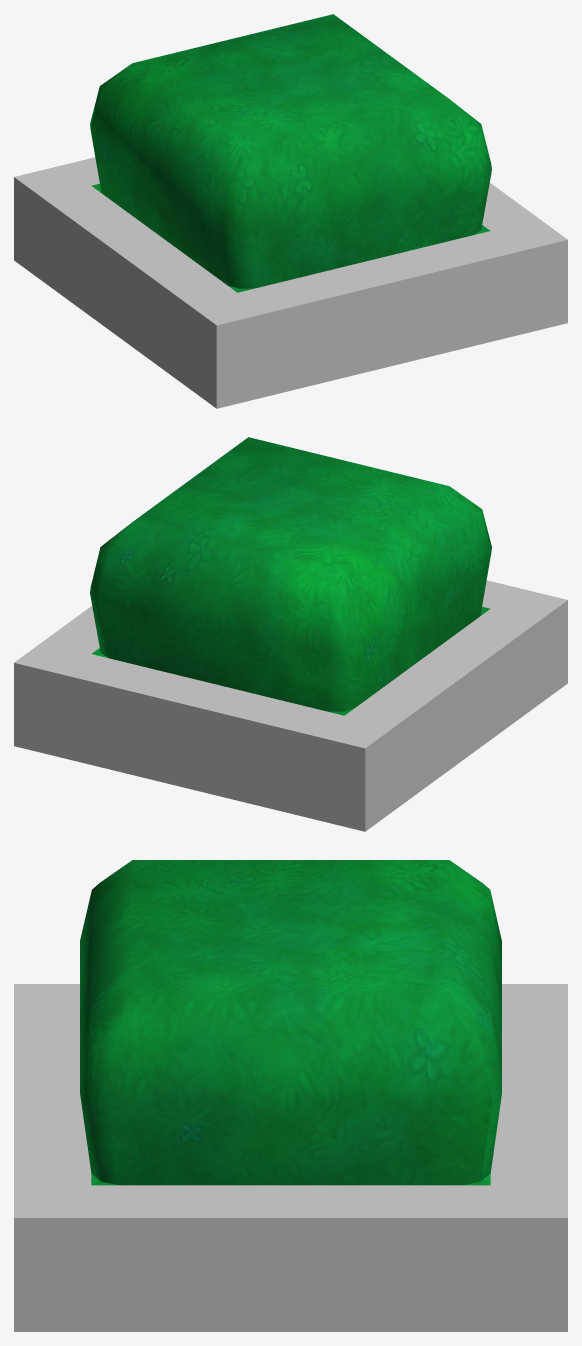
The model's file is Plant01_c01.FBX.
3 views of the same model, one above another, from view 1: azimuth 30°, elevation 25°; view 2: azimuth 150°, elevation 25°; view 3: azimuth 270°, elevation 25° (orthographic). The views are drawn at different scales.
Visible parts, largest first — view 1: Plant01_c01; view 2: Plant01_c01; view 3: Plant01_c01.
Part boxes in pixels (box(x1,y1,x2,y2)): Plant01_c01: box(14, 14, 567, 408); Plant01_c01: box(14, 437, 567, 831); Plant01_c01: box(14, 860, 567, 1331).
Bounding box in the file's own units: 208 × 119 × 208.
